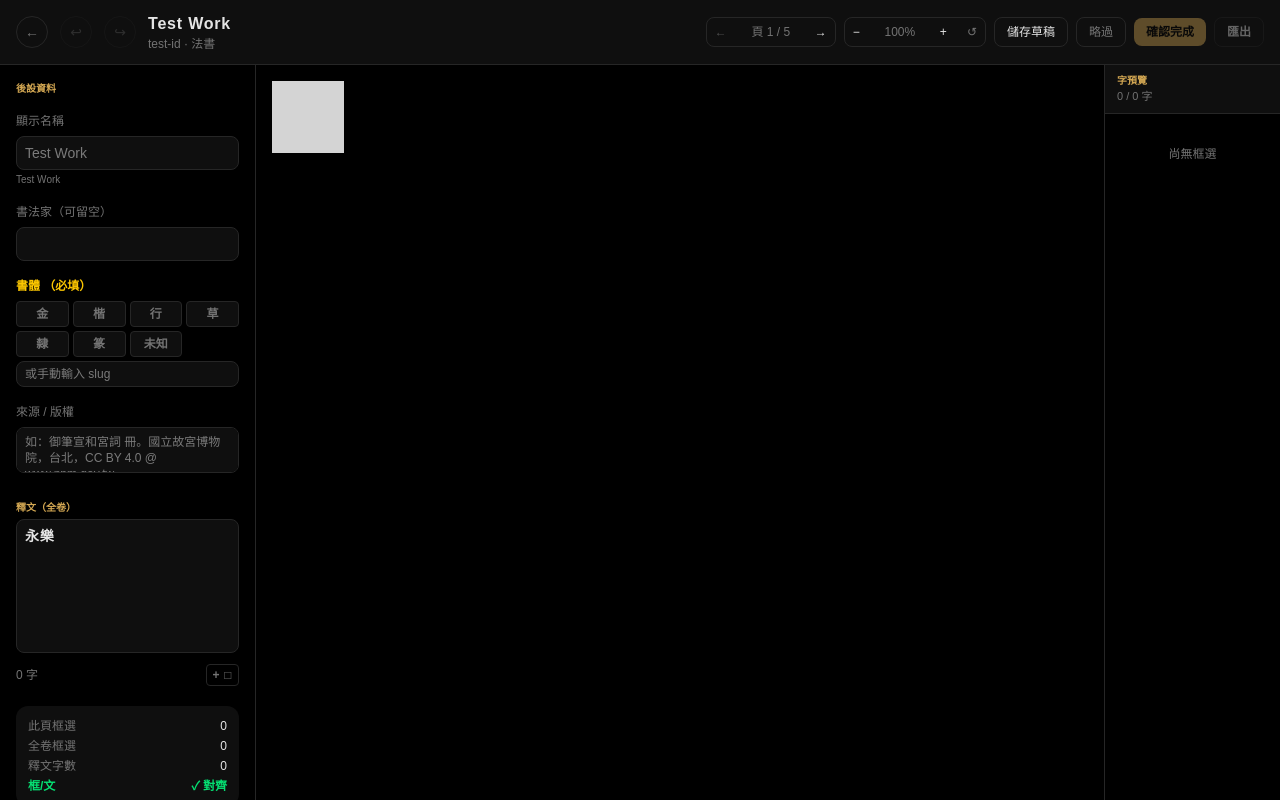
Test: page navigation › navigates forward and backward through pages
Step 1. Click the button "→" → (821, 32), box 807,18 -> 835,46
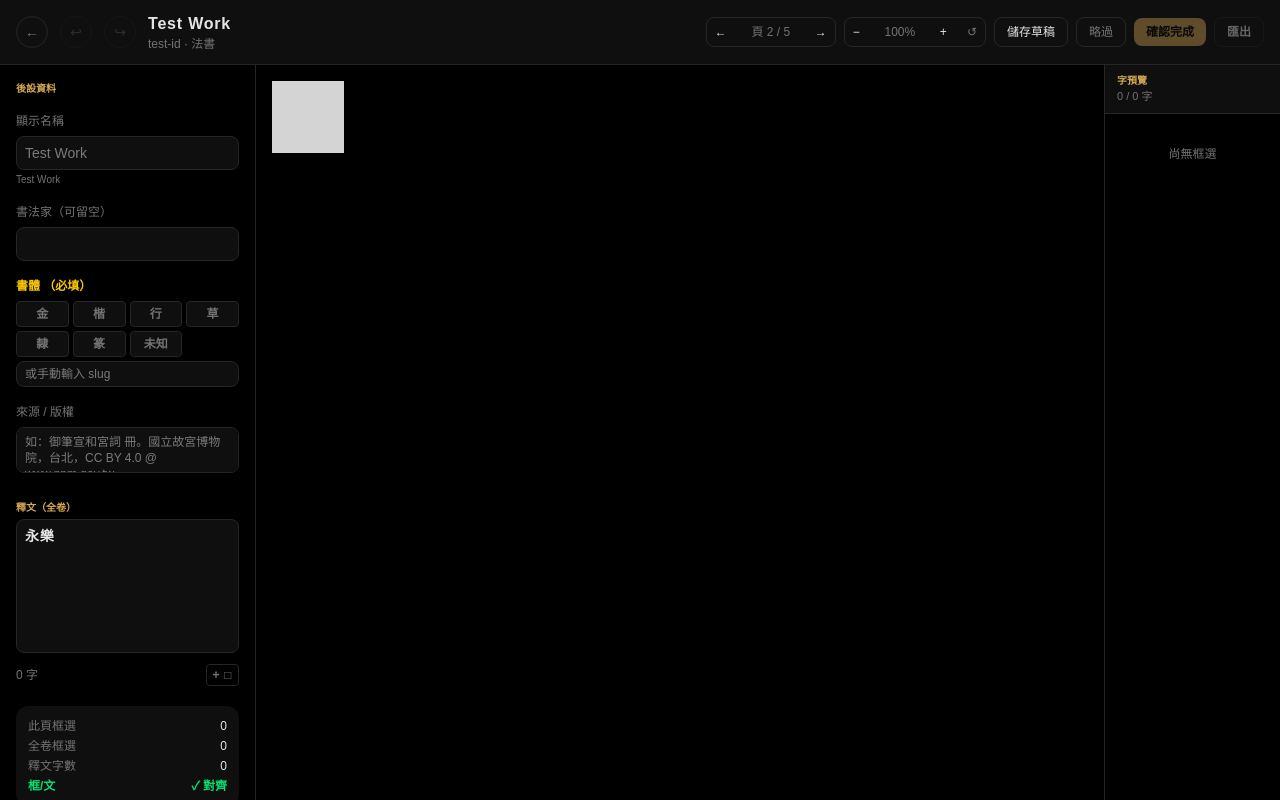
Result: the text "頁 2 / 5" is shown at 752,25 -> 790,39
Step 2. Click the button "→" → (821, 32), box 807,18 -> 835,46
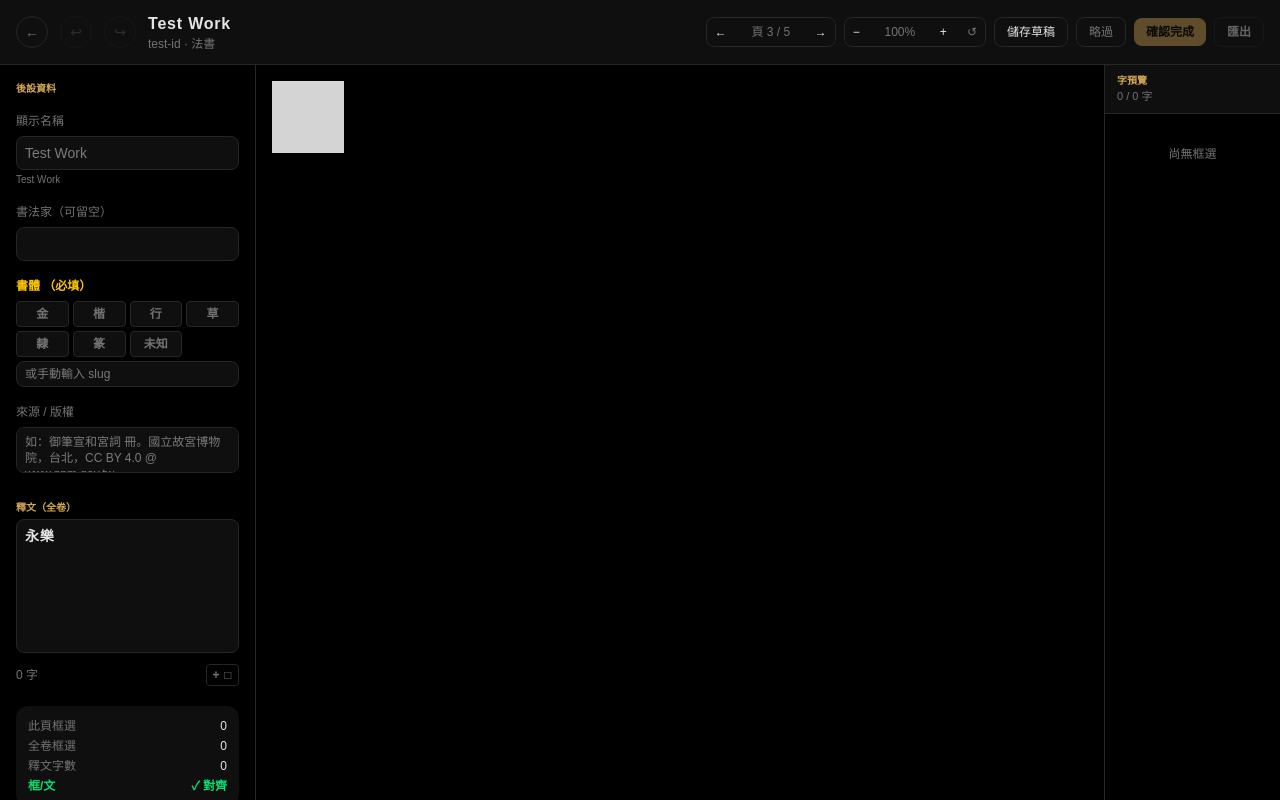
Result: the text "頁 3 / 5" is shown at 752,25 -> 790,39
Step 3. Click the button "←" in the row of "100" → (721, 32), box 707,18 -> 735,46
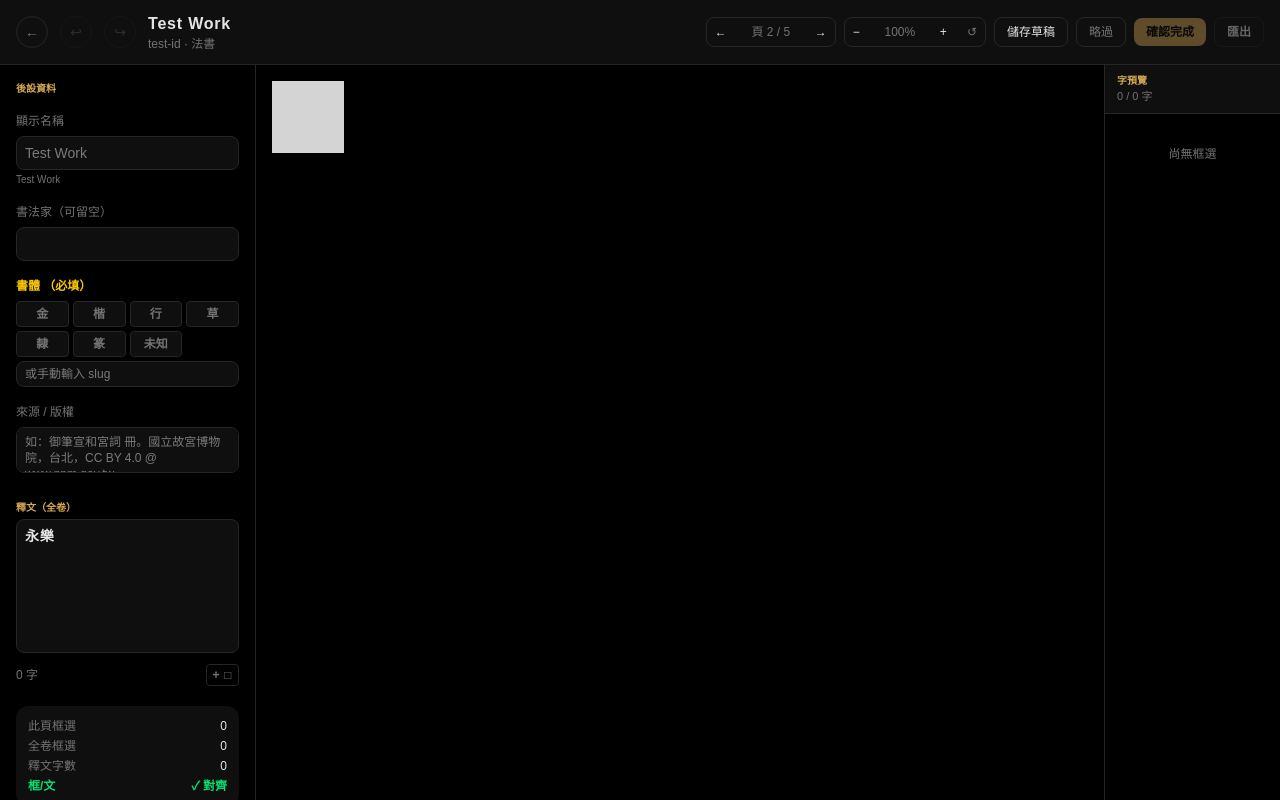
Result: the text "頁 2 / 5" is shown at 752,25 -> 790,39
